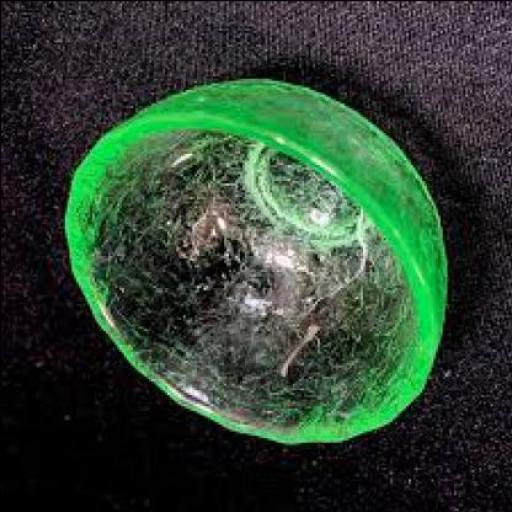glass: (66, 77, 450, 446)
